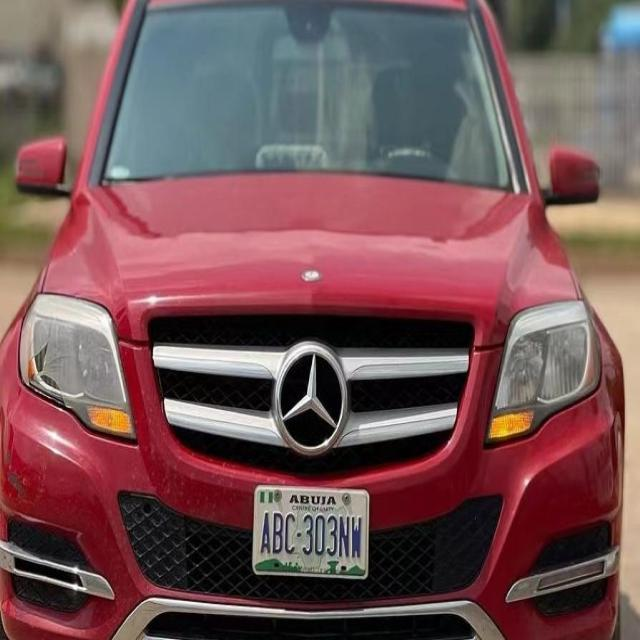Nigerian License Plate - vdataset benjamin-daria: (249, 482, 372, 584)
